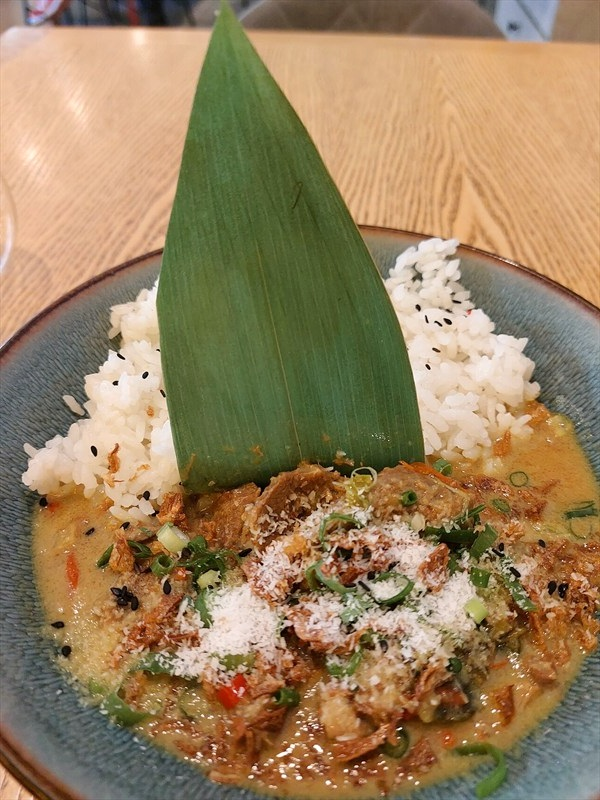Rendang: (69, 165, 538, 755)
